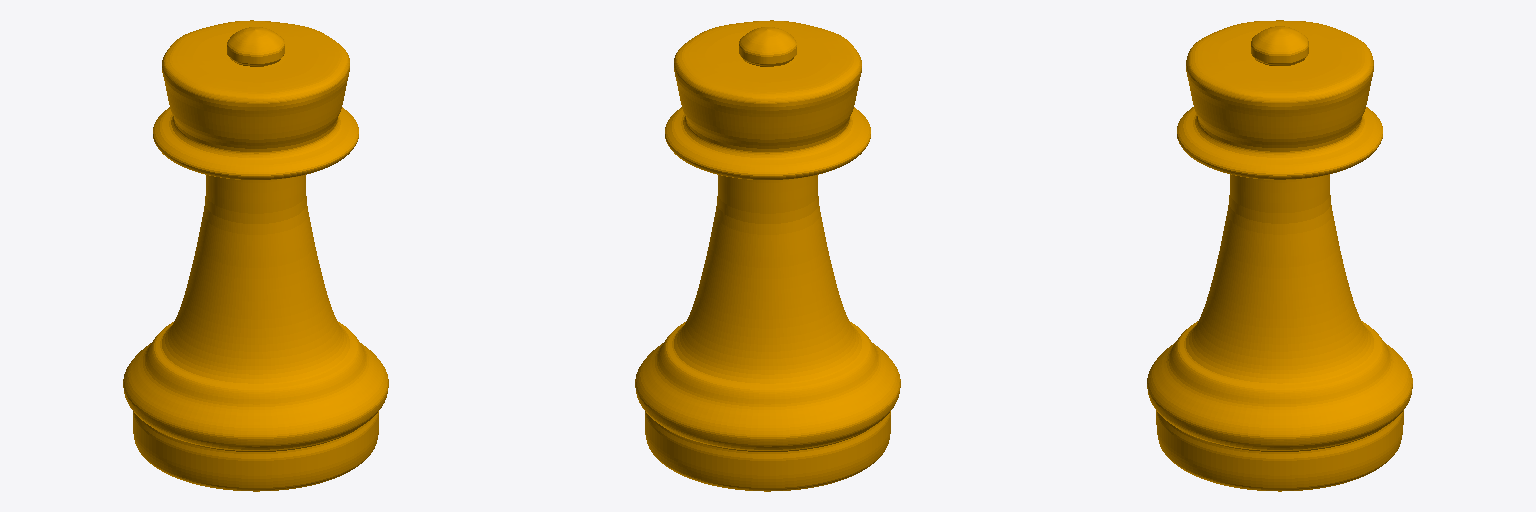
robot.urdf — rook:
<?xml version='1.0' encoding='utf-8'?>
<robot name="rook"><link name="rook"><inertial><origin xyz="3.5727617214599613e-19 1.568178710890928e-19 0.009608788250998935" rpy="0 0 0" /><mass value="0.003" /><inertia ixx="2.1732249395340687e-07" iyy="2.1732249395340687e-07" izz="1.0952000006616115e-07" ixy="0" ixz="0" iyz="0" /></inertial><visual><geometry><mesh filename="rook.obj" /></geometry></visual><collision><geometry><mesh filename="collision/rook_00.obj" /></geometry></collision><collision><geometry><mesh filename="collision/rook_01.obj" /></geometry></collision><collision><geometry><mesh filename="collision/rook_02.obj" /></geometry></collision><collision><geometry><mesh filename="collision/rook_03.obj" /></geometry></collision><collision><geometry><mesh filename="collision/rook_04.obj" /></geometry></collision><collision><geometry><mesh filename="collision/rook_05.obj" /></geometry></collision><collision><geometry><mesh filename="collision/rook_06.obj" /></geometry></collision><collision><geometry><mesh filename="collision/rook_07.obj" /></geometry></collision><collision><geometry><mesh filename="collision/rook_08.obj" /></geometry></collision><collision><geometry><mesh filename="collision/rook_09.obj" /></geometry></collision><collision><geometry><mesh filename="collision/rook_10.obj" /></geometry></collision><collision><geometry><mesh filename="collision/rook_11.obj" /></geometry></collision><collision><geometry><mesh filename="collision/rook_12.obj" /></geometry></collision><collision><geometry><mesh filename="collision/rook_13.obj" /></geometry></collision><collision><geometry><mesh filename="collision/rook_14.obj" /></geometry></collision><collision><geometry><mesh filename="collision/rook_15.obj" /></geometry></collision><collision><geometry><mesh filename="collision/rook_16.obj" /></geometry></collision><collision><geometry><mesh filename="collision/rook_17.obj" /></geometry></collision></link></robot>

--- What the picture shows (computed from the rendered views, not written in the file) ---
The picture shows the robot from 3 angles, left to right: view 1: azimuth 30°, elevation 25°; view 2: azimuth 150°, elevation 25°; view 3: azimuth 270°, elevation 25°; orthographic projection.
Robot: rook — 1 links, 0 joints (none); root link rook; default pose: every joint at zero.
Visible links, largest first — view 1: rook; view 2: rook; view 3: rook.
Link boxes in pixels (bbox=[...]): rook: bbox=[123, 20, 388, 491]; rook: bbox=[635, 20, 900, 491]; rook: bbox=[1147, 20, 1412, 491].
Size in the robot's own frame: 0.0148 by 0.0148 by 0.0255 metres.
1 mesh visuals loaded from 1 distinct referenced files (1 OBJ).
